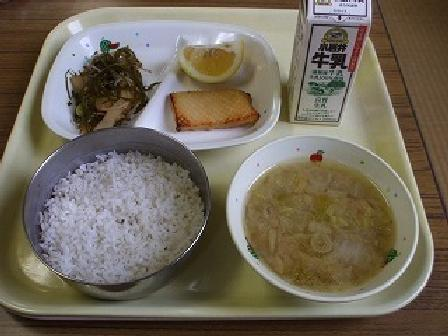Citrus: (163, 29, 262, 85)
Milk: (280, 0, 380, 125)
Rice: (33, 131, 207, 294)
Soups: (231, 140, 411, 293)
pastry: (161, 80, 262, 139)
salad with sauce: (57, 39, 151, 142)
